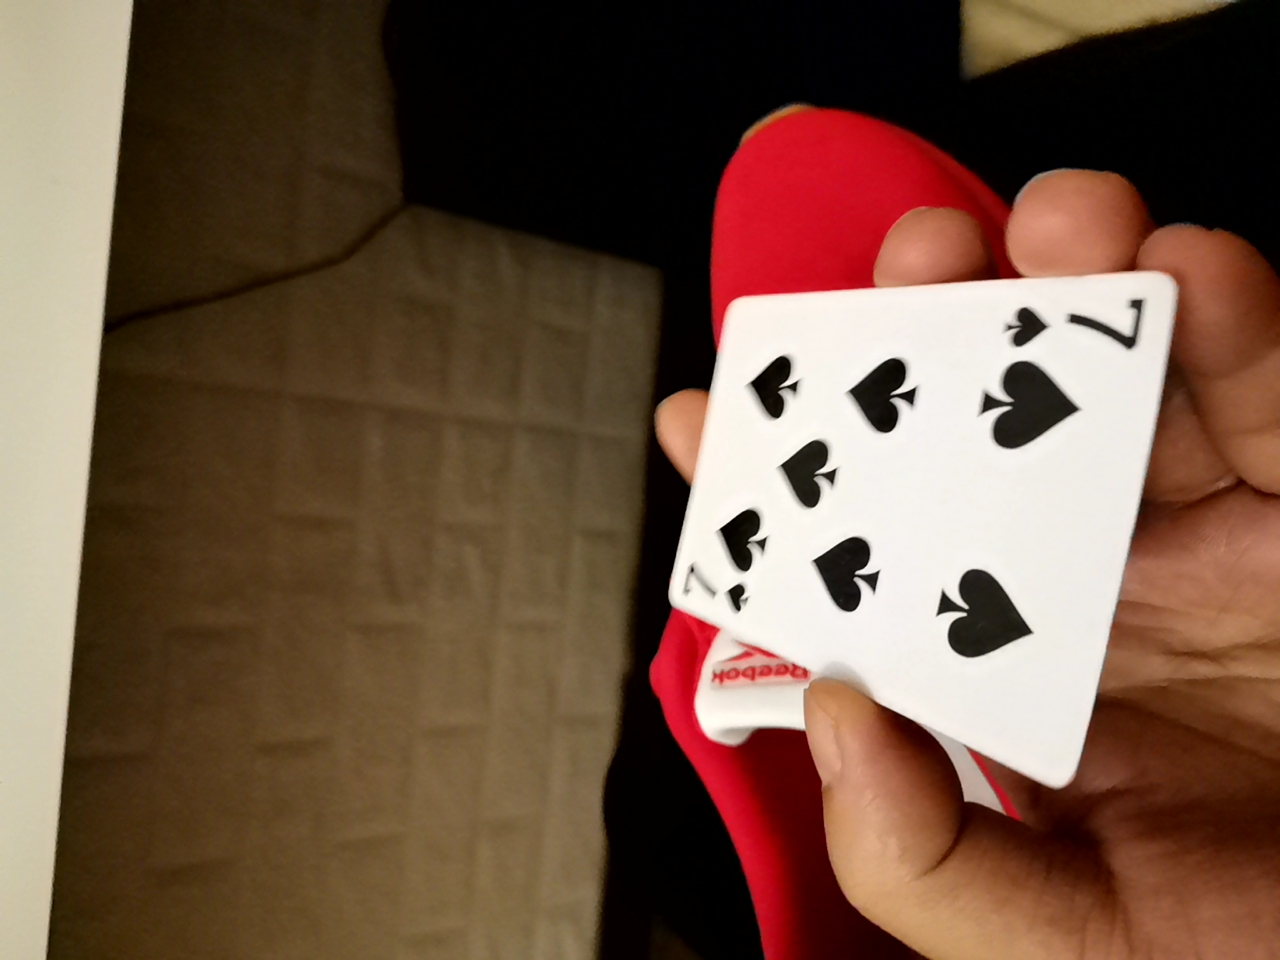ht 7: (646, 273, 1201, 791)
